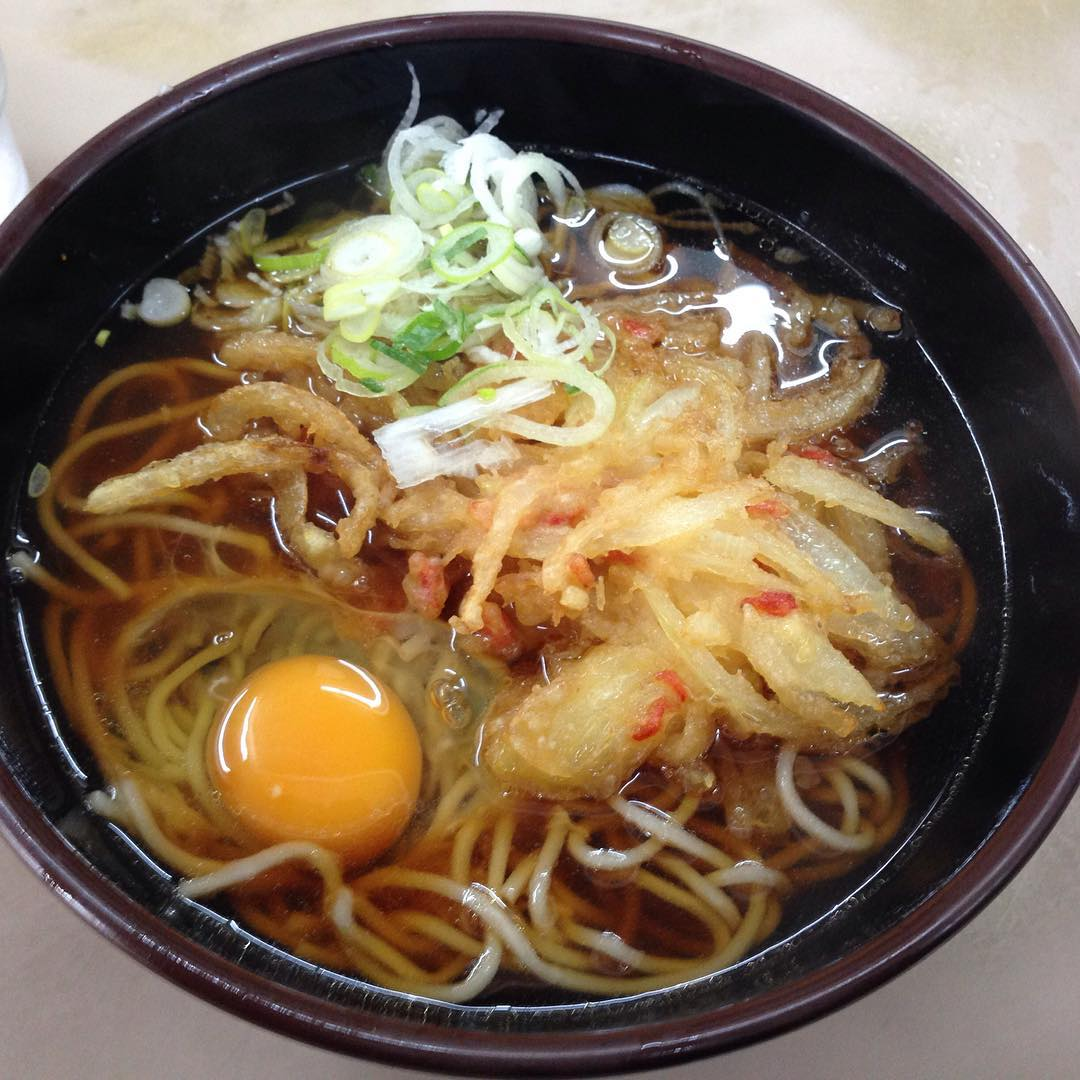Soba: (56, 244, 963, 989)
